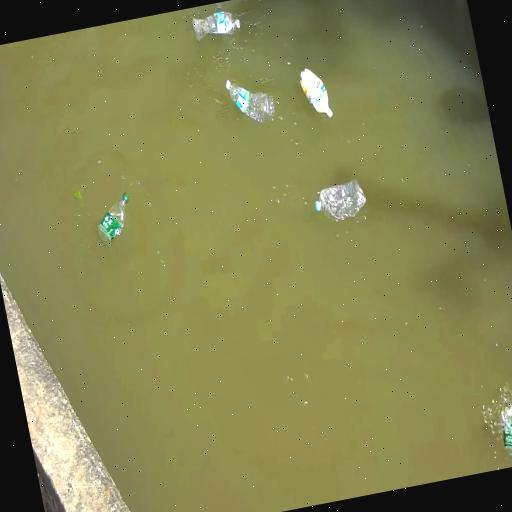plastic: (225, 80, 274, 123), (314, 180, 365, 221), (299, 69, 331, 117), (98, 193, 128, 242), (192, 12, 239, 40), (501, 398, 511, 453)
